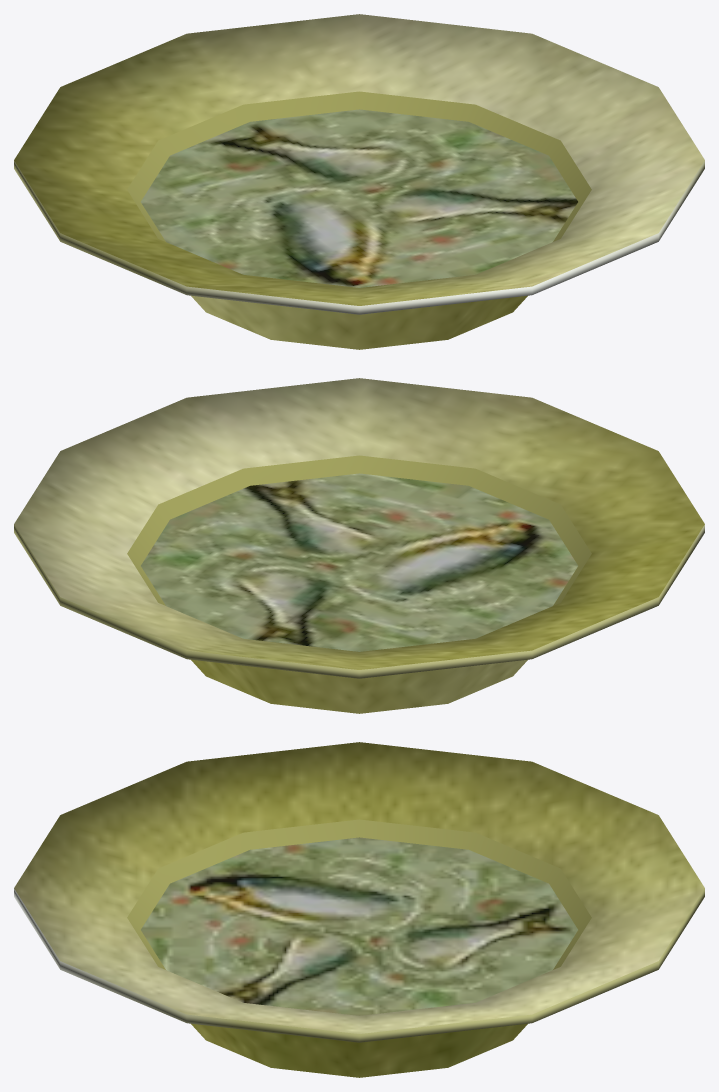
The model's file is ITFO_FISHSOUP.glb.
3 renders of one model, top to bottom at view 1: azimuth 30°, elevation 25°; view 2: azimuth 150°, elevation 25°; view 3: azimuth 270°, elevation 25°, orthographic.
Parts seen in each view (by area): view 1: Mesh; view 2: Mesh; view 3: Mesh.
Part boxes in pixels (box(x1,y1,x2,y2)): Mesh: box(14, 14, 704, 349); Mesh: box(14, 378, 704, 713); Mesh: box(14, 742, 704, 1077).
Bounding box in the file's own units: 0.342 × 0.0627 × 0.342.
2 materials, 1 textured.
